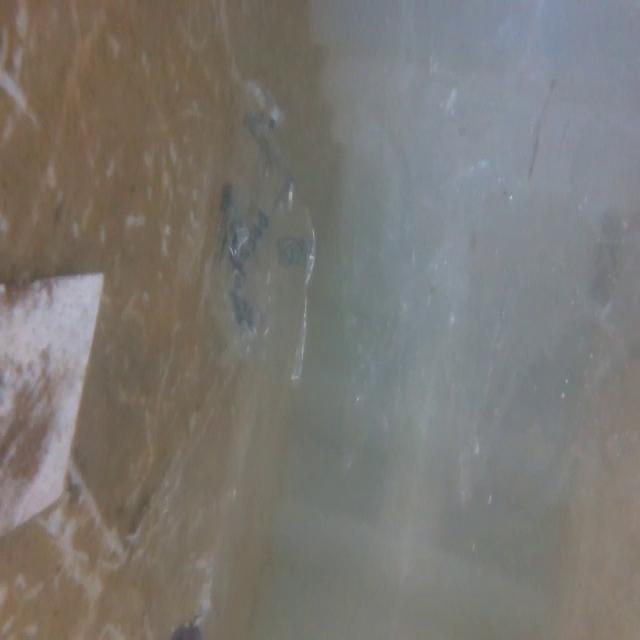metal: (0, 266, 114, 530)
plastic bags: (346, 0, 545, 545), (188, 77, 326, 382)
